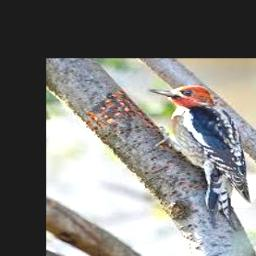Woodpecker: (148, 85, 250, 230)
